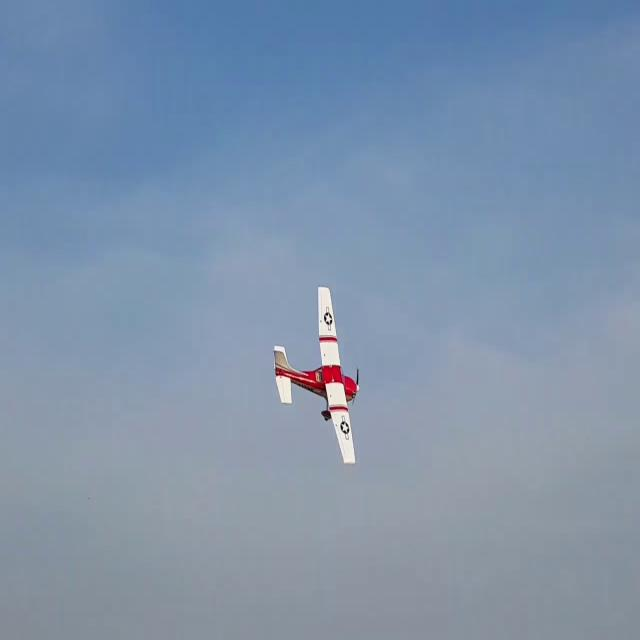iha: (303, 286, 332, 470)
